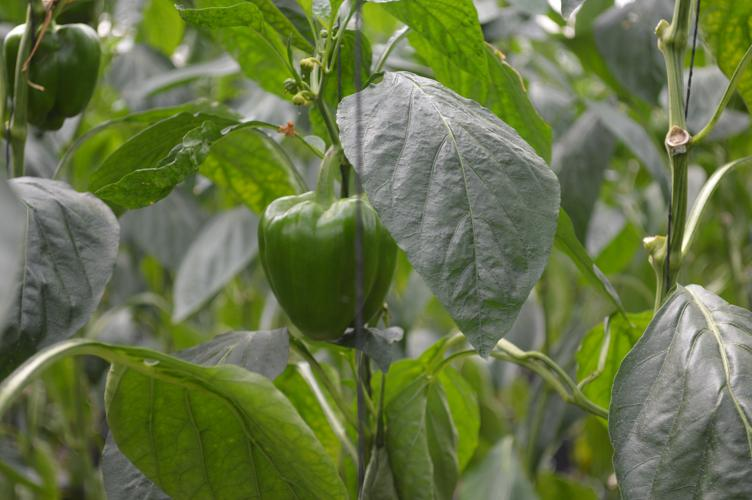BellPepper: (266, 199, 392, 340), (10, 24, 101, 122)
